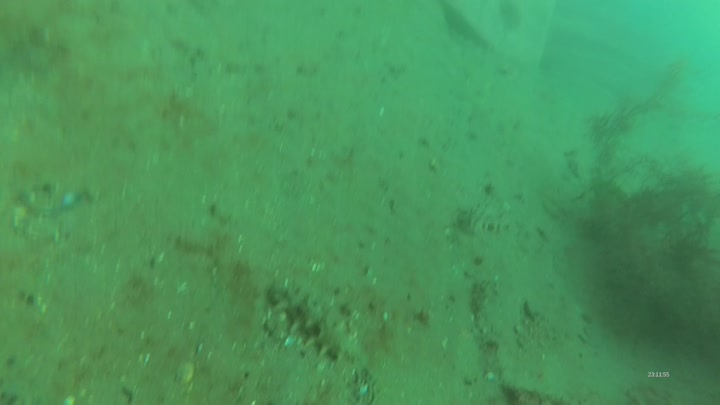echinus: (498, 1, 523, 32)
holothurian: (266, 277, 361, 367), (466, 201, 514, 235)
